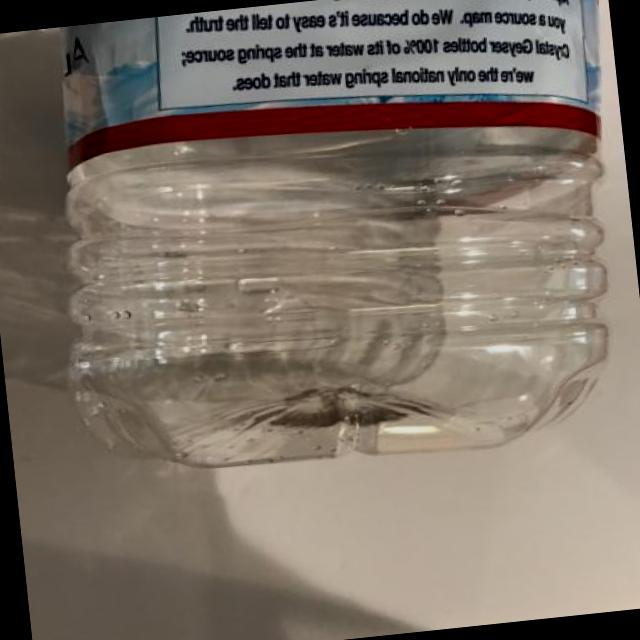plastic: (25, 0, 597, 471)
